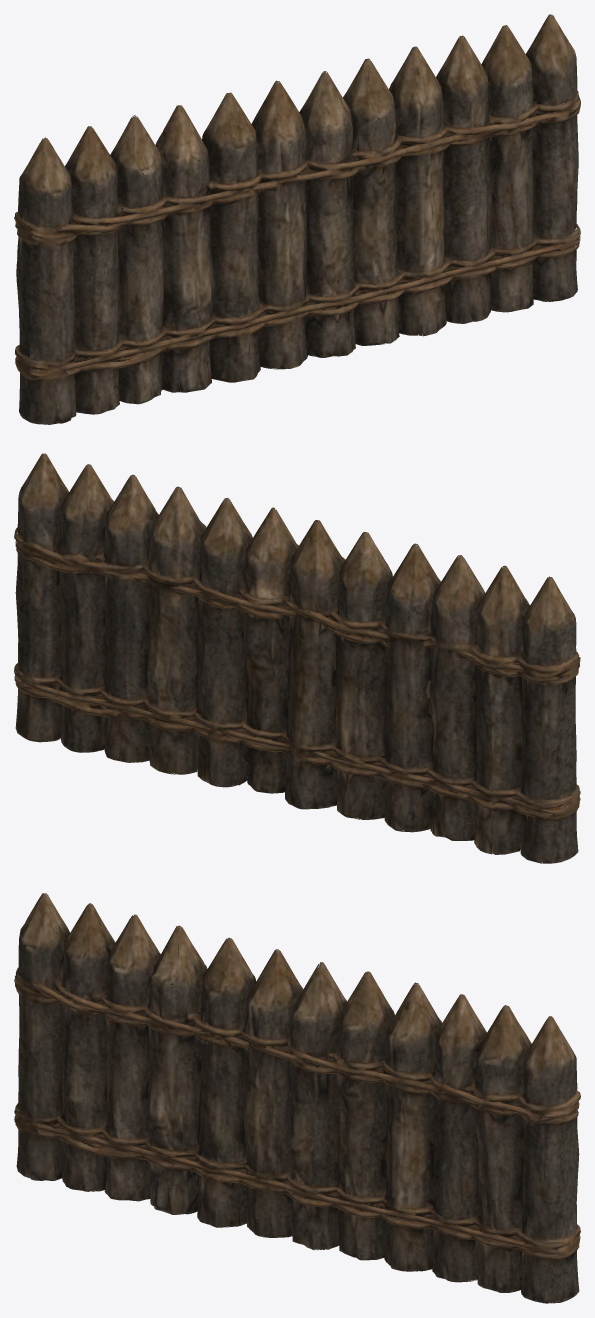
The model's file is palisade_mid.glb.
3 views of the same model, one above another, from view 1: azimuth 30°, elevation 25°; view 2: azimuth 150°, elevation 25°; view 3: azimuth 330°, elevation 25° (orthographic).
Visible parts, largest first — view 1: model; view 2: model; view 3: model.
Boxes of the visible parts, <box> form: model: <box>14,14,580,424</box>; model: <box>14,453,580,863</box>; model: <box>14,893,580,1303</box>.
Bounding box in the file's own units: 1 × 0.4814 × 0.1191.
Materials: 1 (1 with a texture image).
